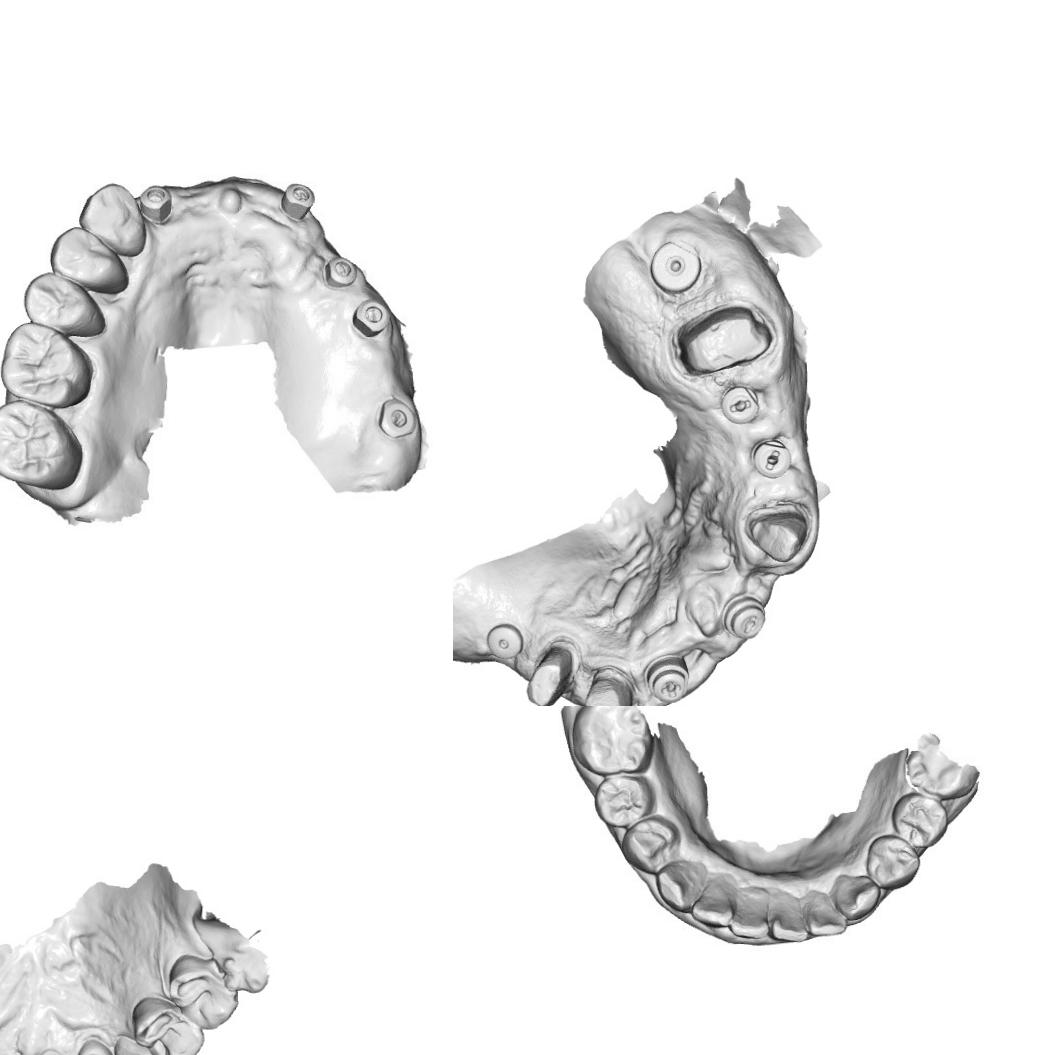canine: (78, 181, 146, 258), (660, 858, 704, 910), (835, 871, 876, 917), (111, 1037, 170, 1055)
crown: (682, 305, 770, 373), (746, 506, 809, 569), (521, 648, 573, 706), (579, 667, 630, 706)
implant: (647, 238, 703, 293), (374, 393, 420, 442), (353, 299, 394, 340), (140, 186, 179, 226), (486, 622, 526, 661), (320, 255, 360, 293), (283, 179, 319, 220)
implant_minus: (723, 596, 767, 640), (720, 380, 762, 426), (754, 438, 791, 477)
implant_plus: (648, 659, 690, 706)
incisor: (690, 876, 736, 926), (771, 891, 812, 946), (729, 889, 773, 940), (806, 892, 840, 935)
molar: (0, 319, 94, 410), (0, 401, 85, 493), (572, 706, 647, 770)
premolar: (165, 954, 238, 1032), (21, 270, 104, 338), (48, 224, 123, 291), (129, 994, 204, 1055), (592, 775, 648, 828), (626, 819, 683, 870), (896, 797, 944, 847), (869, 840, 920, 886)
